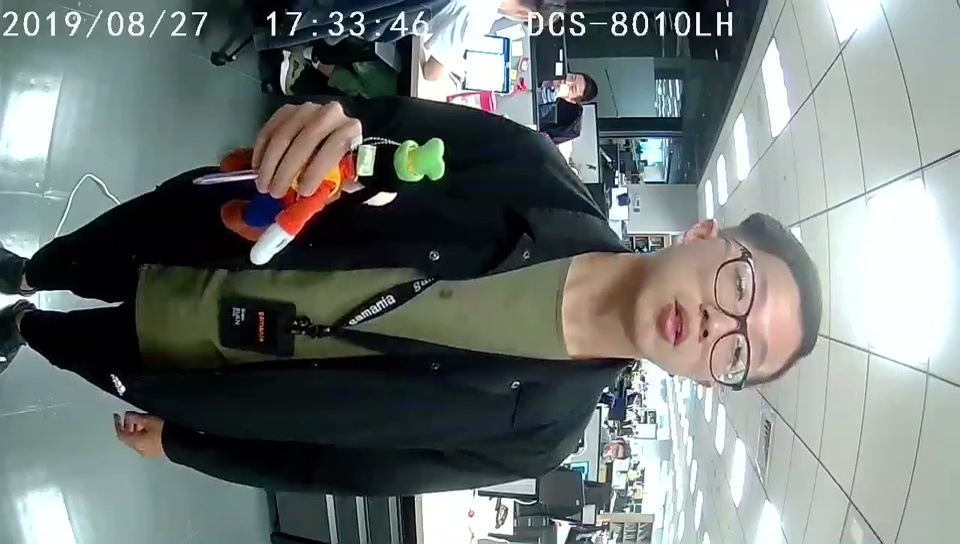goofy: (218, 137, 448, 267)
